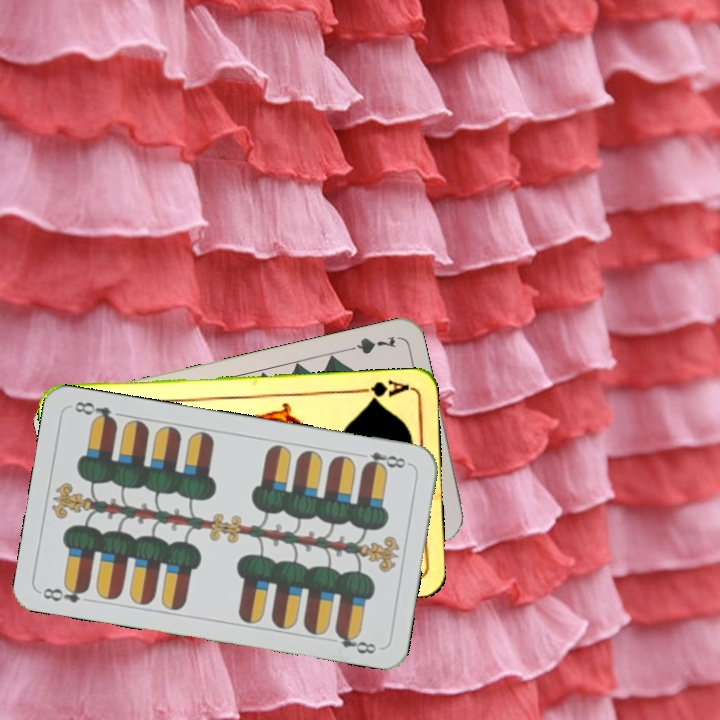E8: (354, 447, 413, 473), (39, 580, 92, 606)
G7: (339, 332, 399, 357)
GA: (352, 376, 411, 404)
